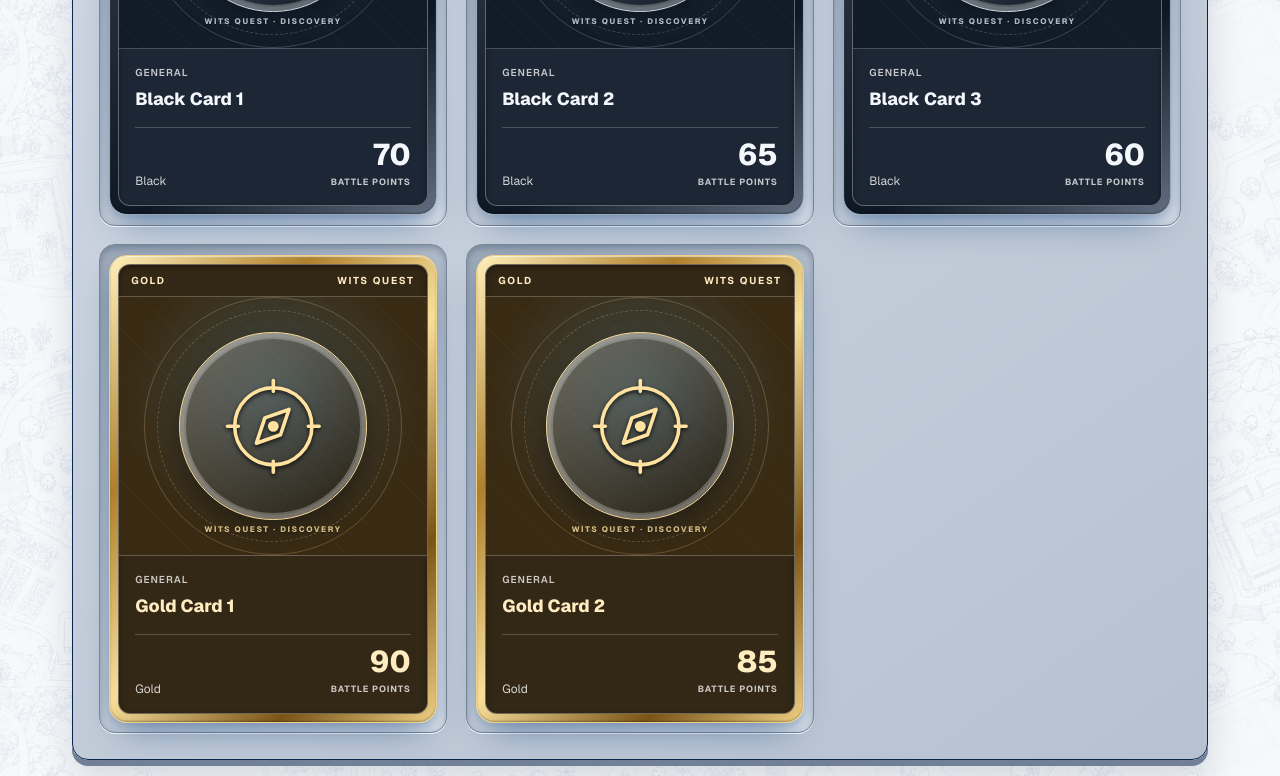
Scenario: enforces rarity limits when toggling card selection
(page scrolled)
Expected: the heading "Gold Card 1" is shown, [135,594,235,617]
// Select 1 Gold card
Click the button "Gold Card 1" at (273, 489), box [109,255,437,723]
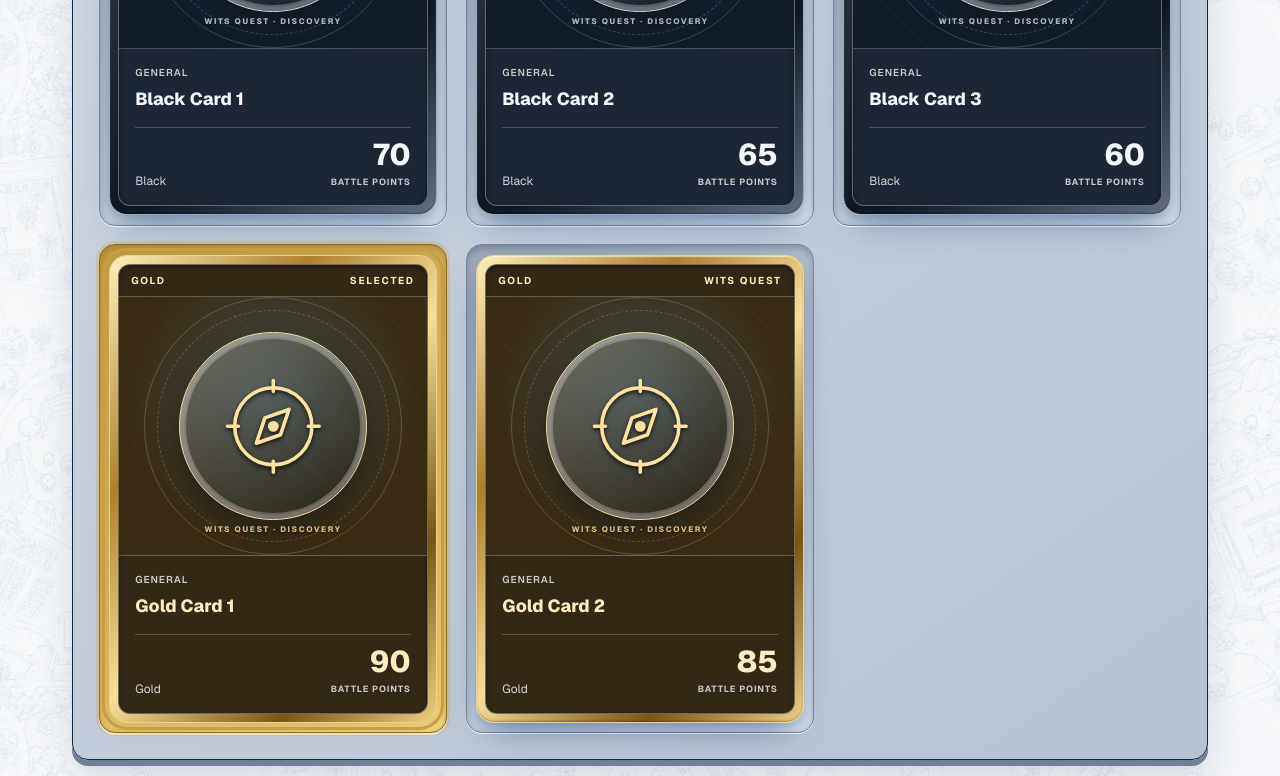
Click the button "Gold Card 2" at (640, 489), box [476,255,804,723]
(page scrolled)
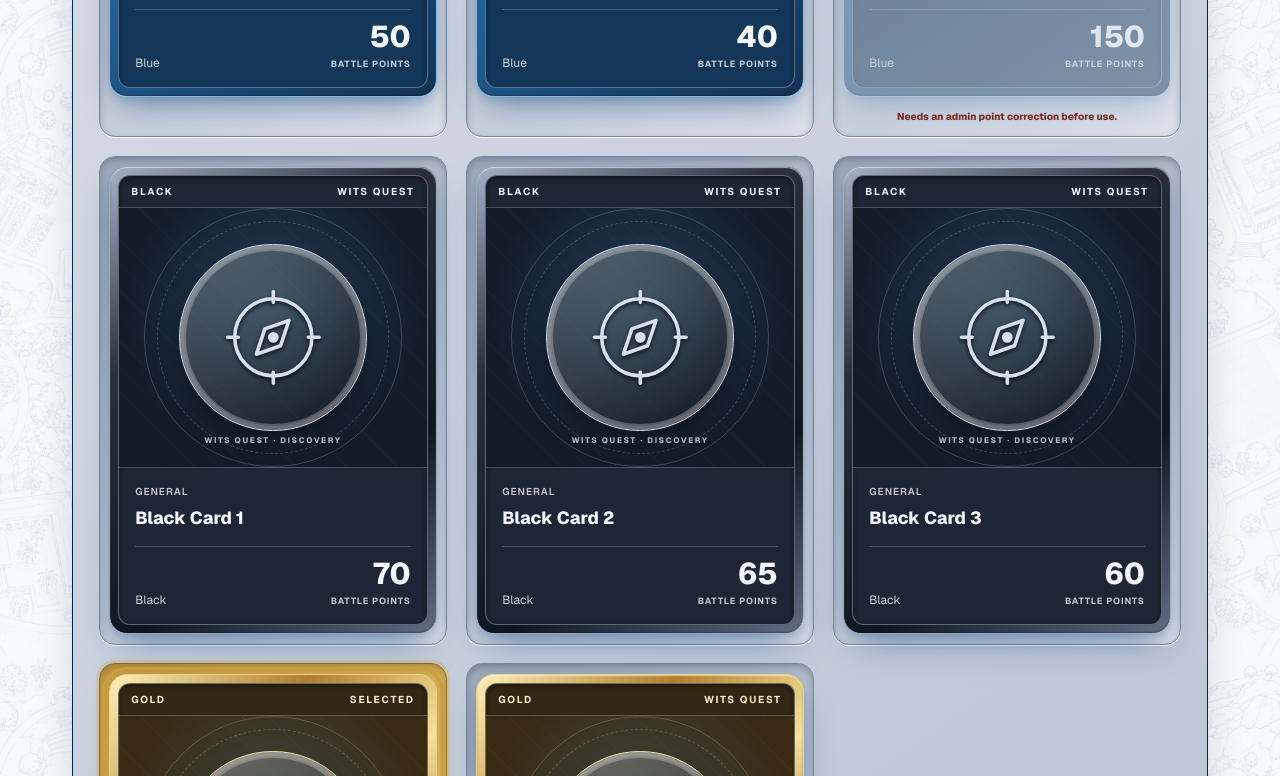
Click the button "Black Card 1" at (273, 400), box [109,166,437,634]
(page scrolled)
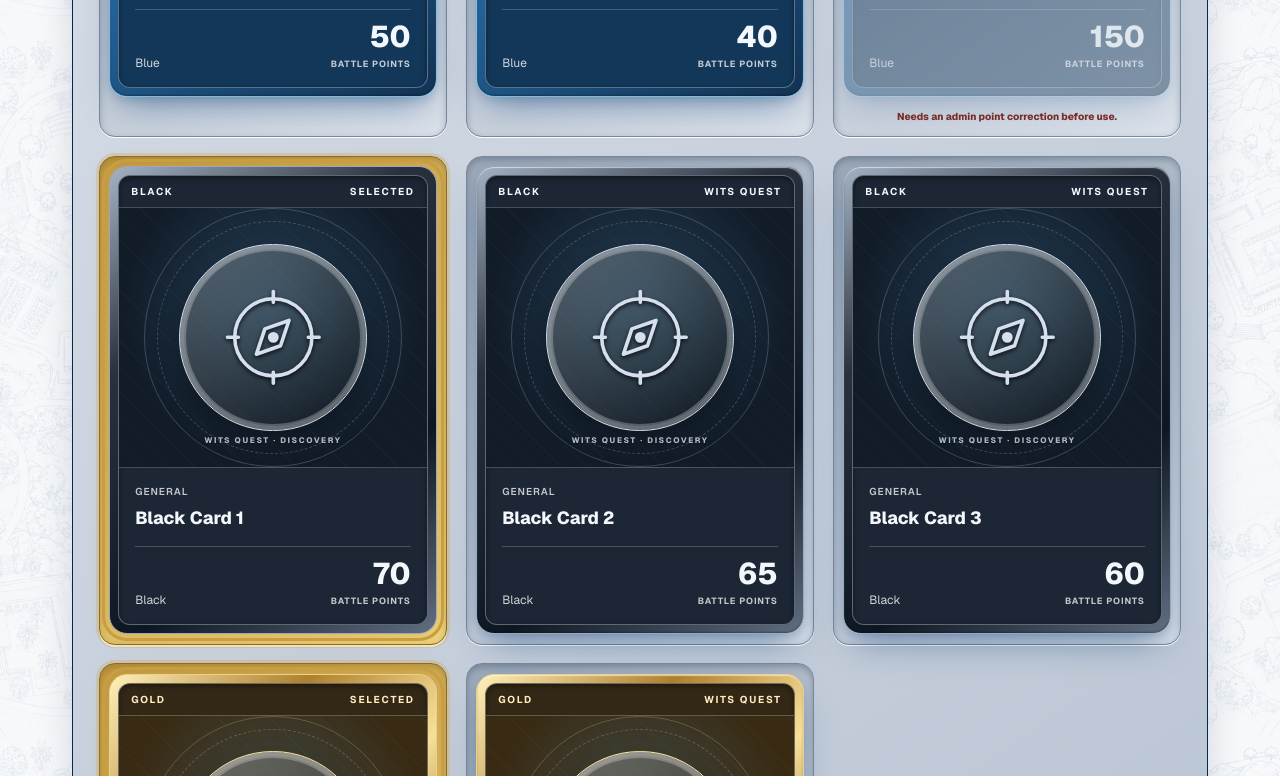
Click the button "Black Card 2" at (640, 400), box [476,166,804,634]
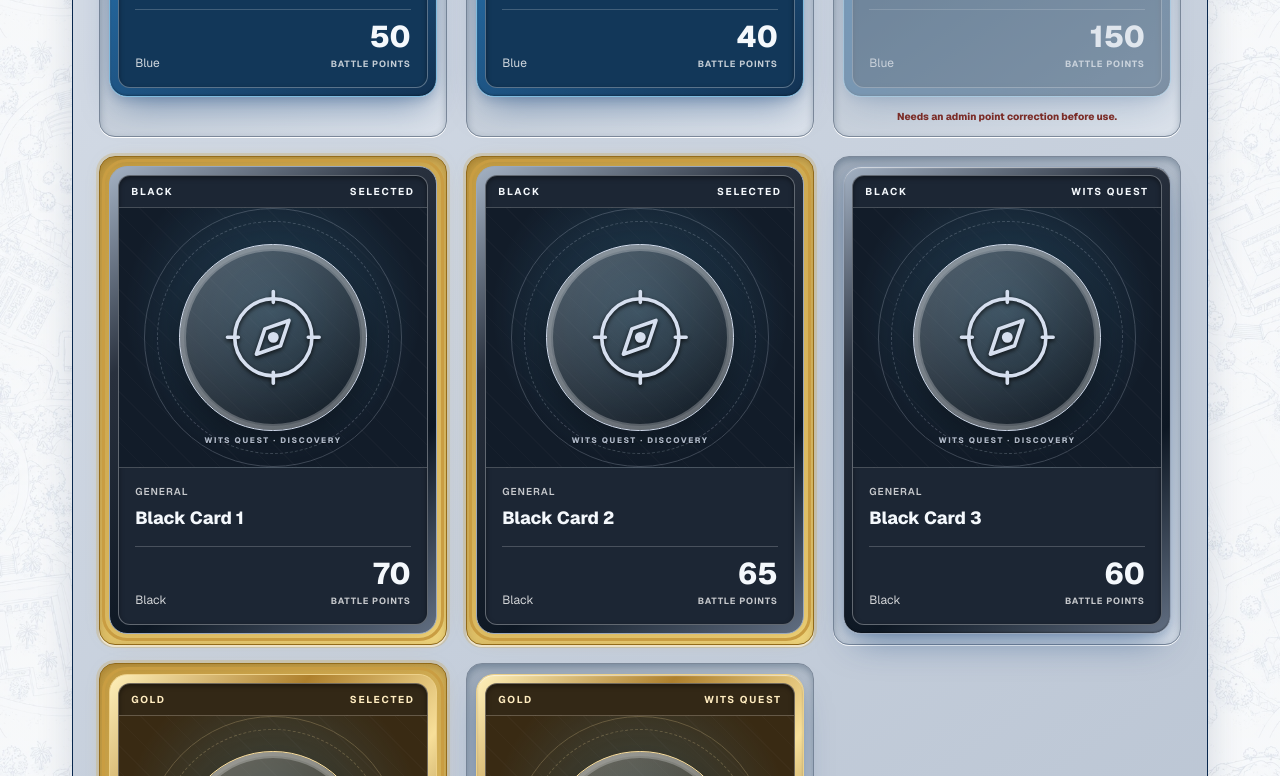
Click the button "Black Card 3" at (1007, 400), box [843,166,1171,634]
(page scrolled)
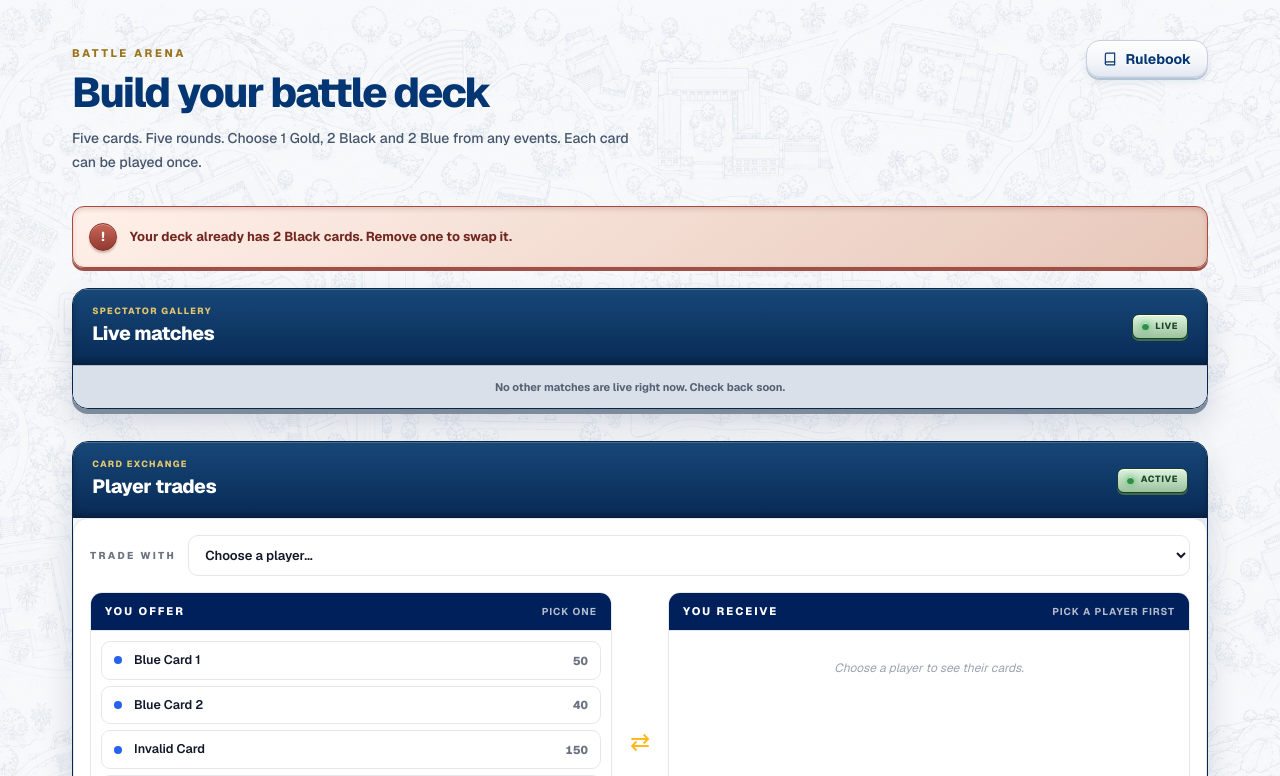
Now the message shows "Your deck already has 2 Black cards.", box [130,228,512,245]
